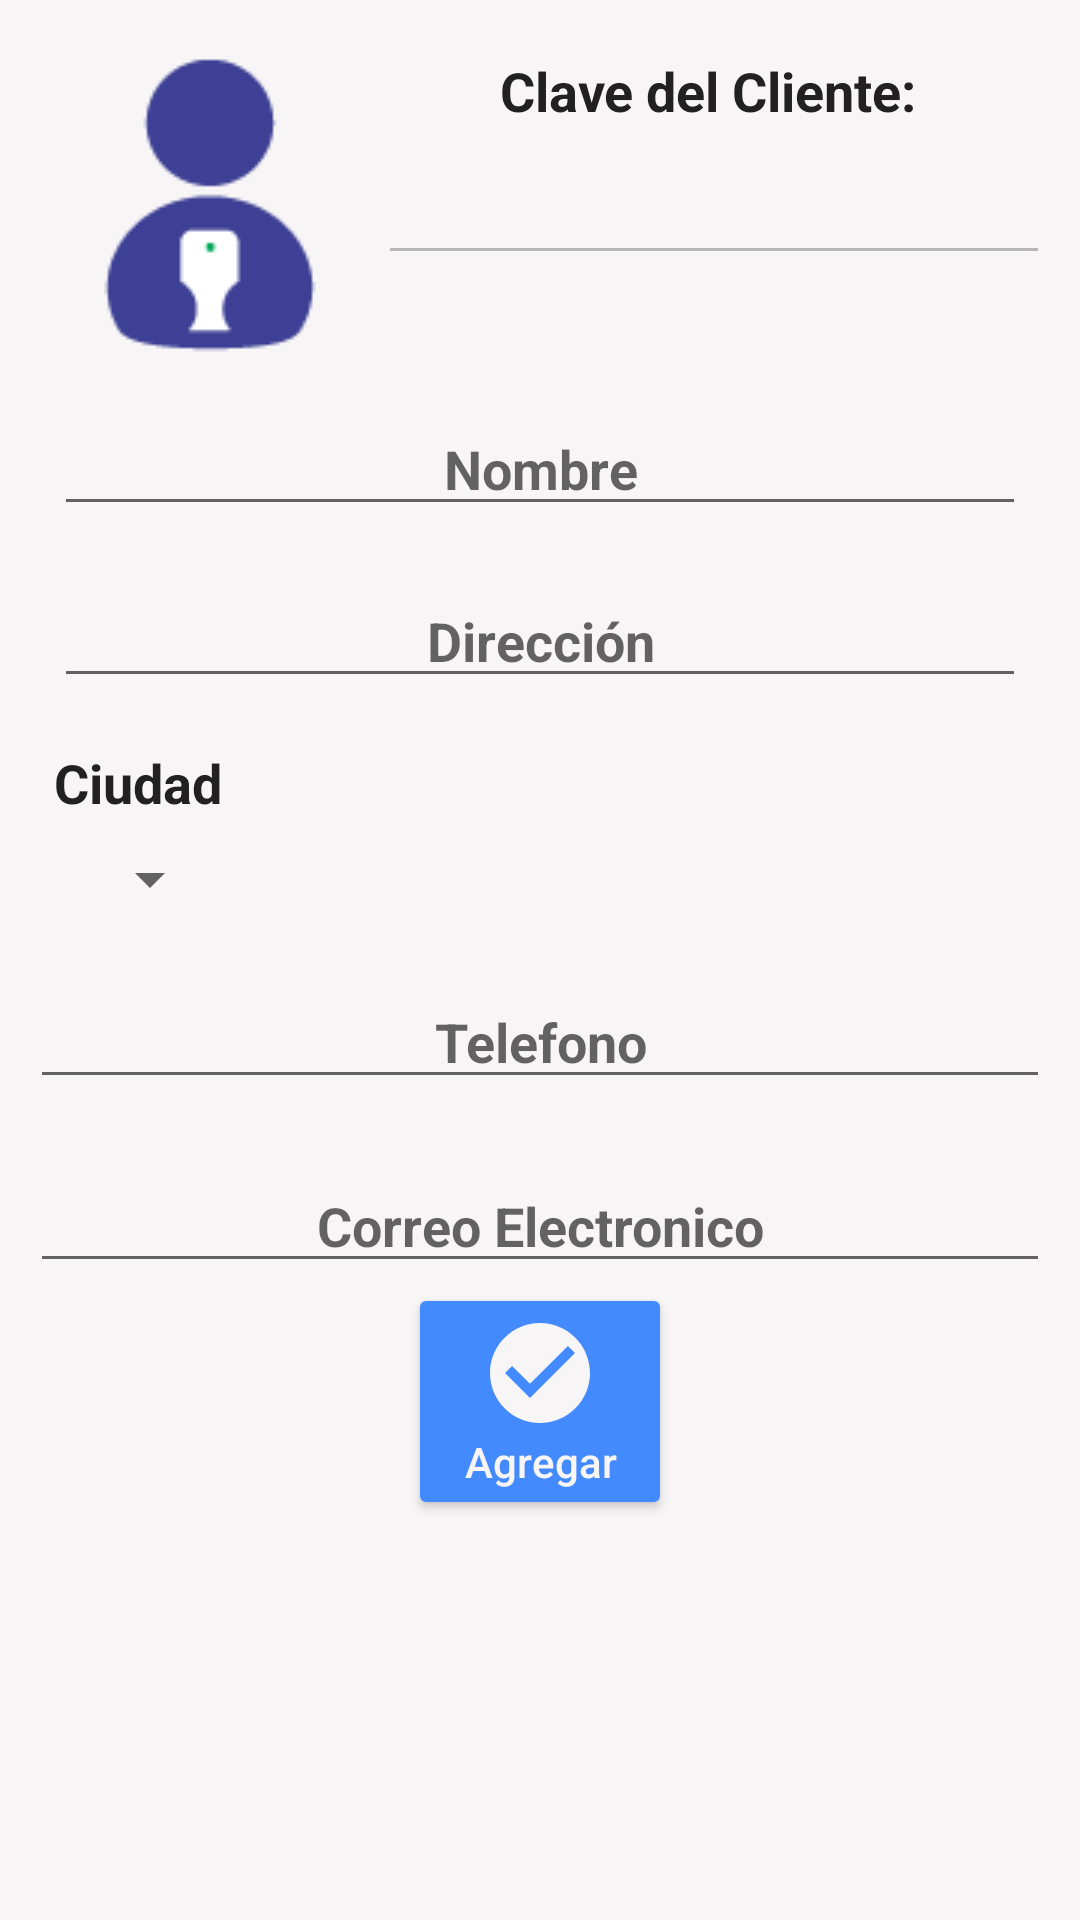

Point at icon controls on the screen. Image size 1080×1920, points as point (x, y).
usuario: point (210, 205)
